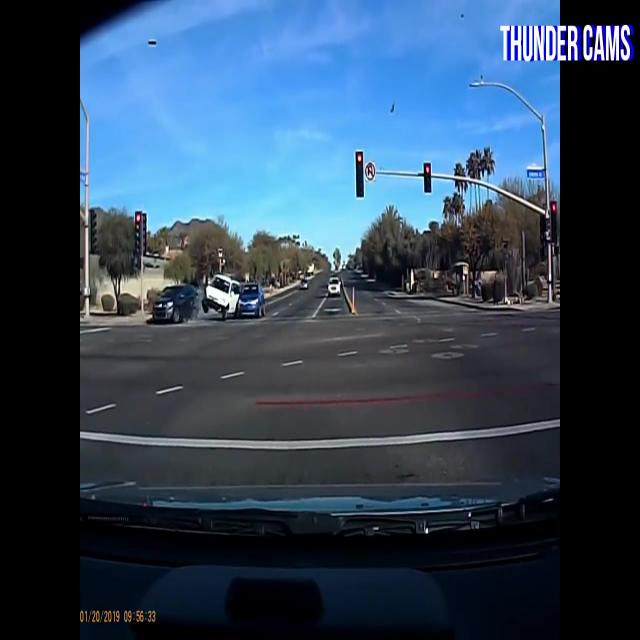accident: (141, 250, 245, 344)
